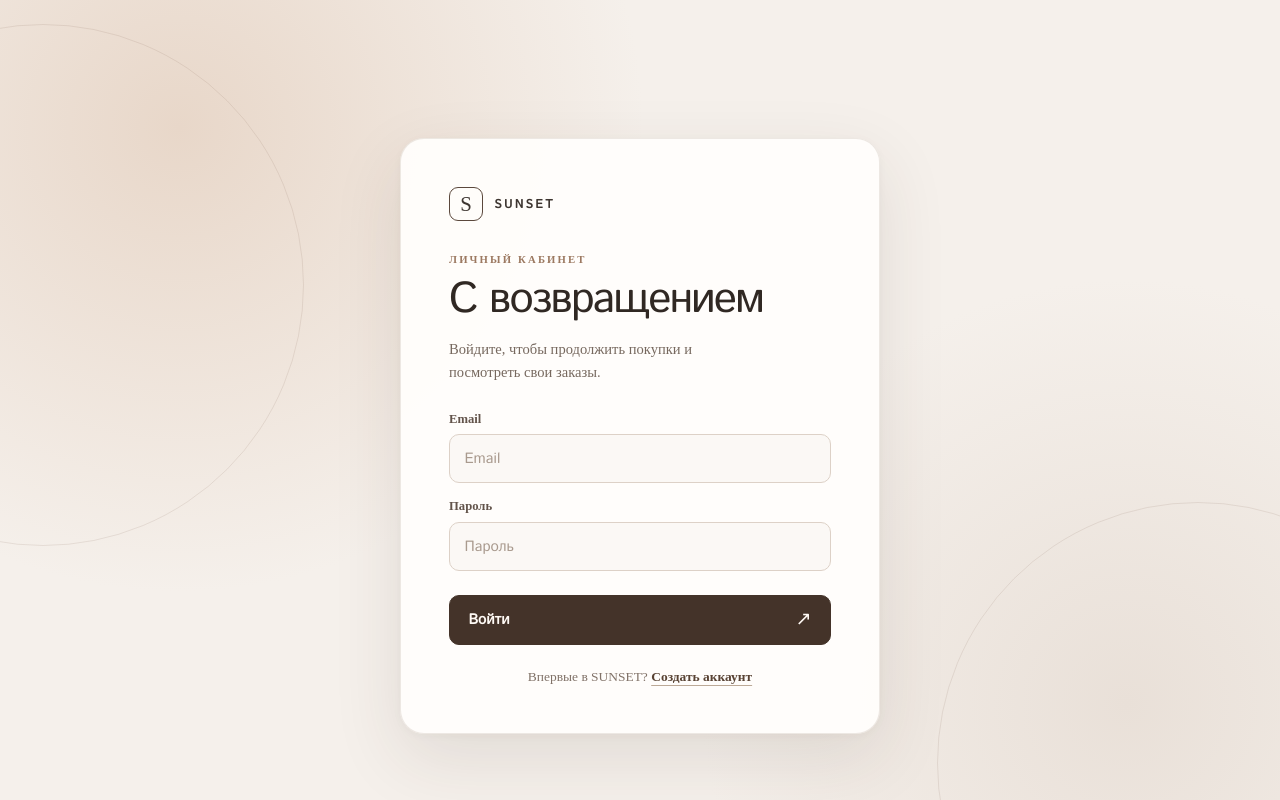
Test case: wrong password remains a login error
This screenshot has width=1280, height=800.
Type "customer@example.test" into the field with placeholder "Email". click: (640, 459)
box: top-left (449, 434), bottom-right (831, 483)
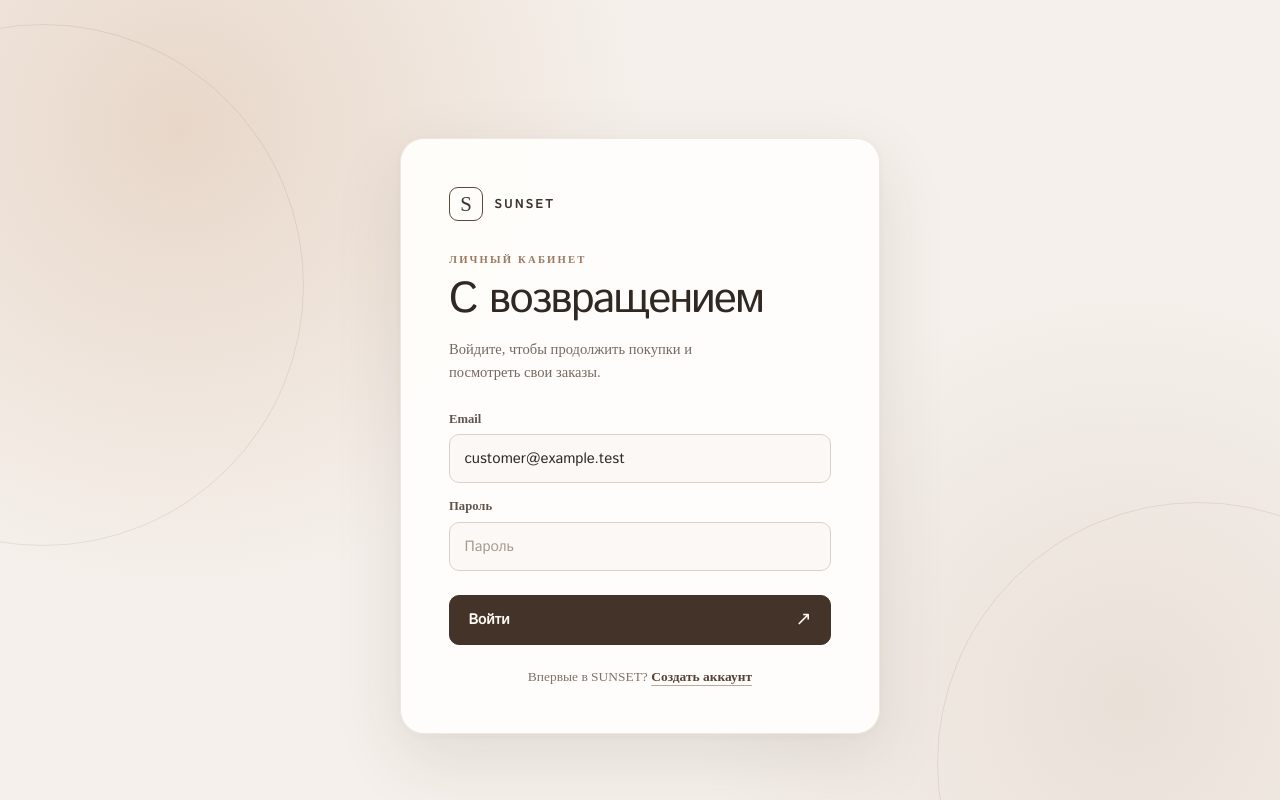
Type "wrong-password" into the password field with placeholder "Пароль". click: (640, 546)
box: top-left (449, 522), bottom-right (831, 571)
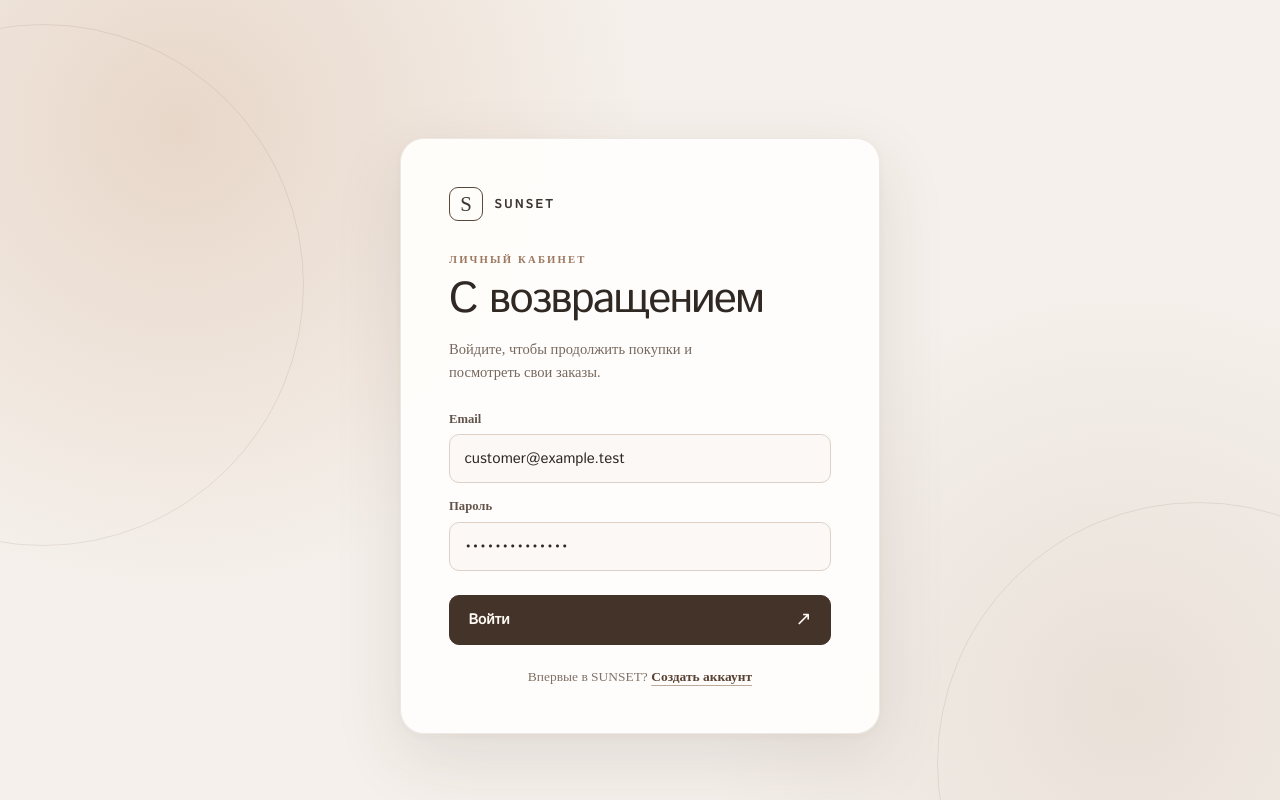
Click the button "Войти ↗". click: (489, 620)
box: top-left (449, 595), bottom-right (831, 645)
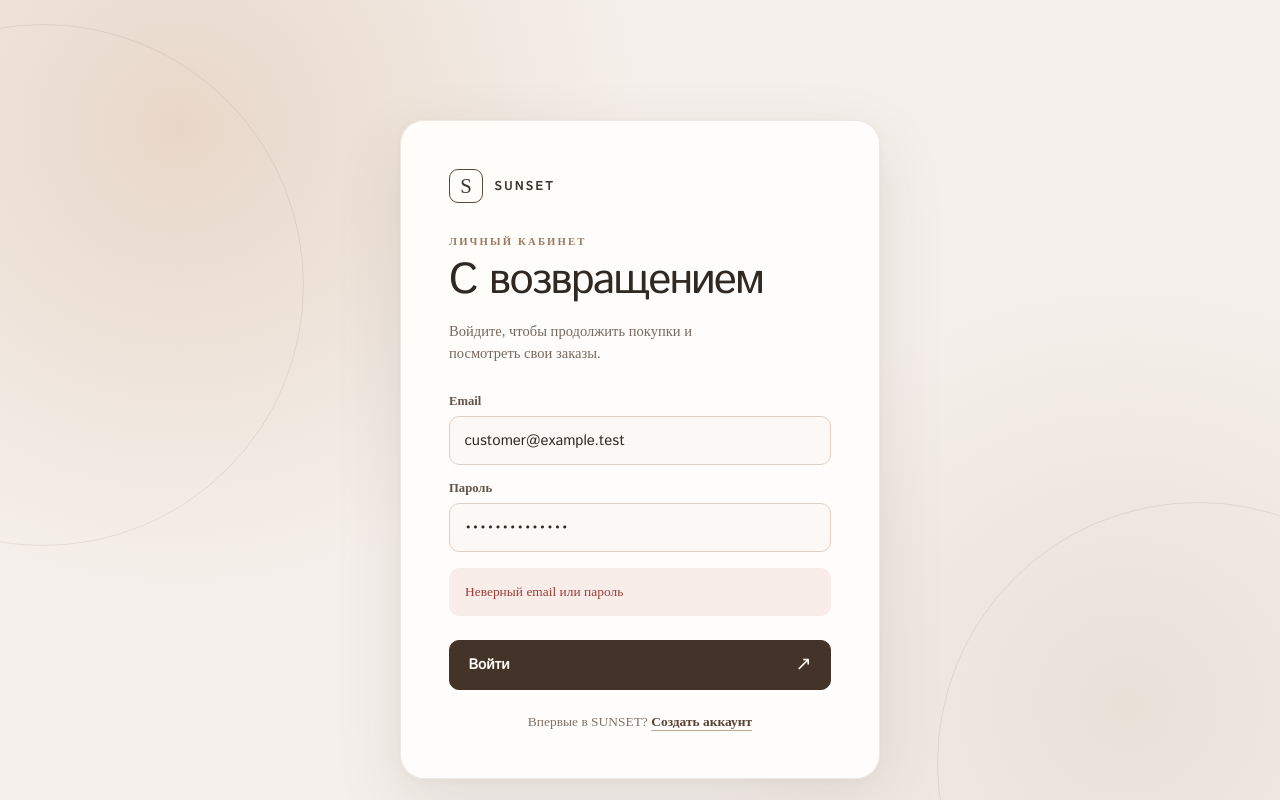
Check: the message reads "Неверный email или пароль", box top-left (465, 584), bottom-right (623, 599)
